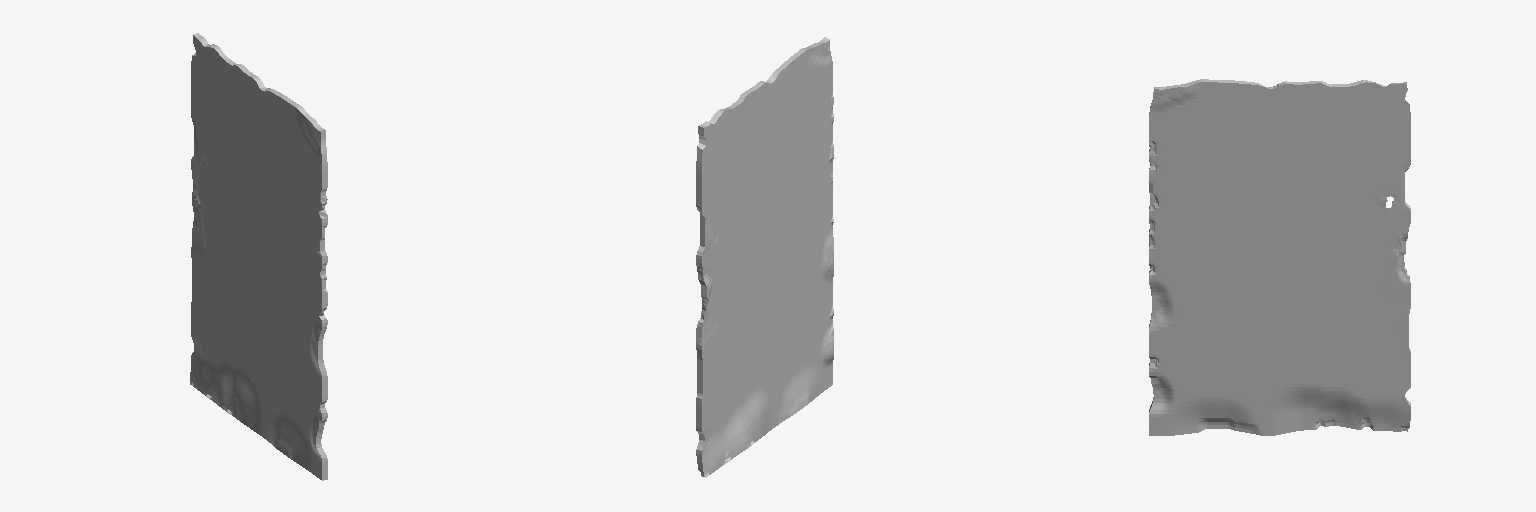
Rendered from letrero1.obj.
The picture shows the model from 3 angles: view 1: azimuth 30°, elevation 25°; view 2: azimuth 150°, elevation 25°; view 3: azimuth 270°, elevation 25°; orthographic projection.
Parts seen in each view (by area): view 1: Plane_Plane.001; view 2: Plane_Plane.001; view 3: Plane_Plane.001.
Part boxes in pixels (left/top/right/bottom): Plane_Plane.001: left=190, top=33, right=327, bottom=480; Plane_Plane.001: left=696, top=37, right=833, bottom=477; Plane_Plane.001: left=1149, top=79, right=1410, bottom=435.
Bounding box in the file's own units: 0.1321 × 2.97 × 2.